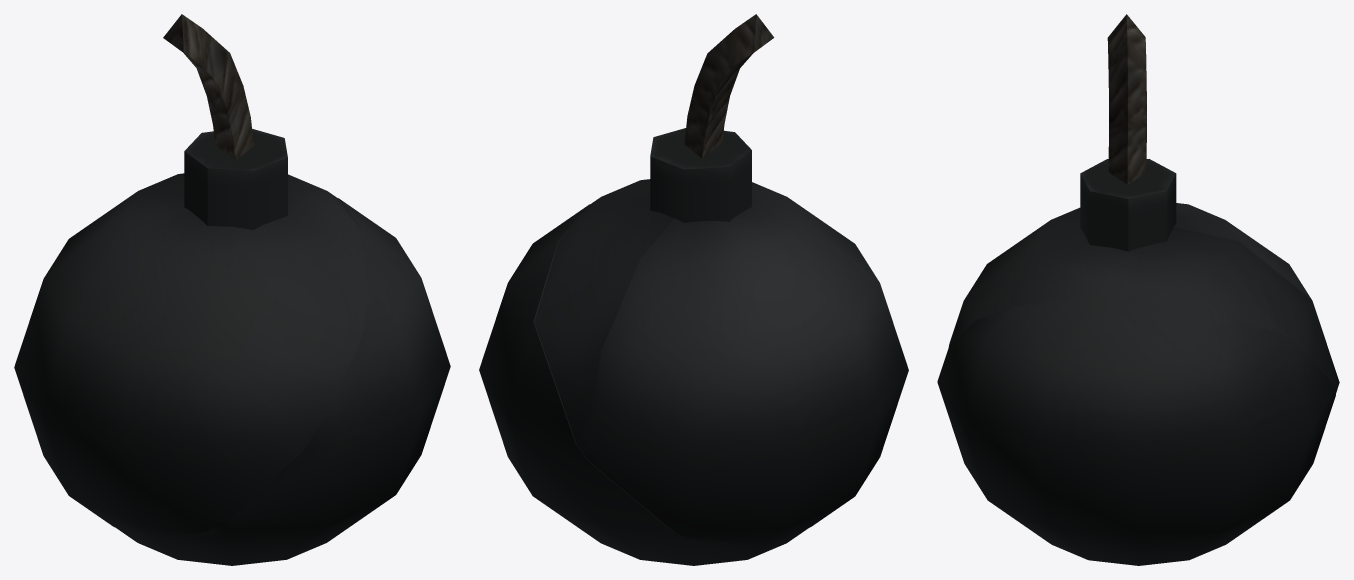
File: candy_bomb_cut.FBX
3 renders of one model, left to right at view 1: azimuth 30°, elevation 25°; view 2: azimuth 150°, elevation 25°; view 3: azimuth 270°, elevation 25°, orthographic. The views are drawn at different scales.
Visible parts, largest first — view 1: part1, part2; view 2: part1, part2; view 3: part2, part1.
Part boxes in pixels (x1,y1,x2,y2): part1: (14,14,369,540); part2: (115,198,450,565); part1: (534,14,908,545); part2: (479,204,808,565); part2: (937,298,1336,565); part1: (949,14,1339,392).
Size of the model in its own units: 27.68 by 38.31 by 27.63.
